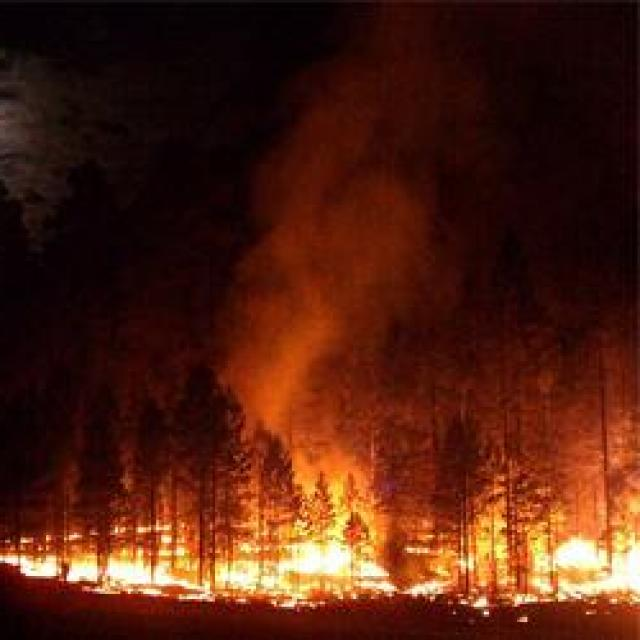fire: (223, 538, 397, 610), (541, 532, 640, 599), (100, 561, 166, 591), (24, 556, 98, 582)
smoke: (249, 175, 415, 292), (226, 288, 330, 440)
